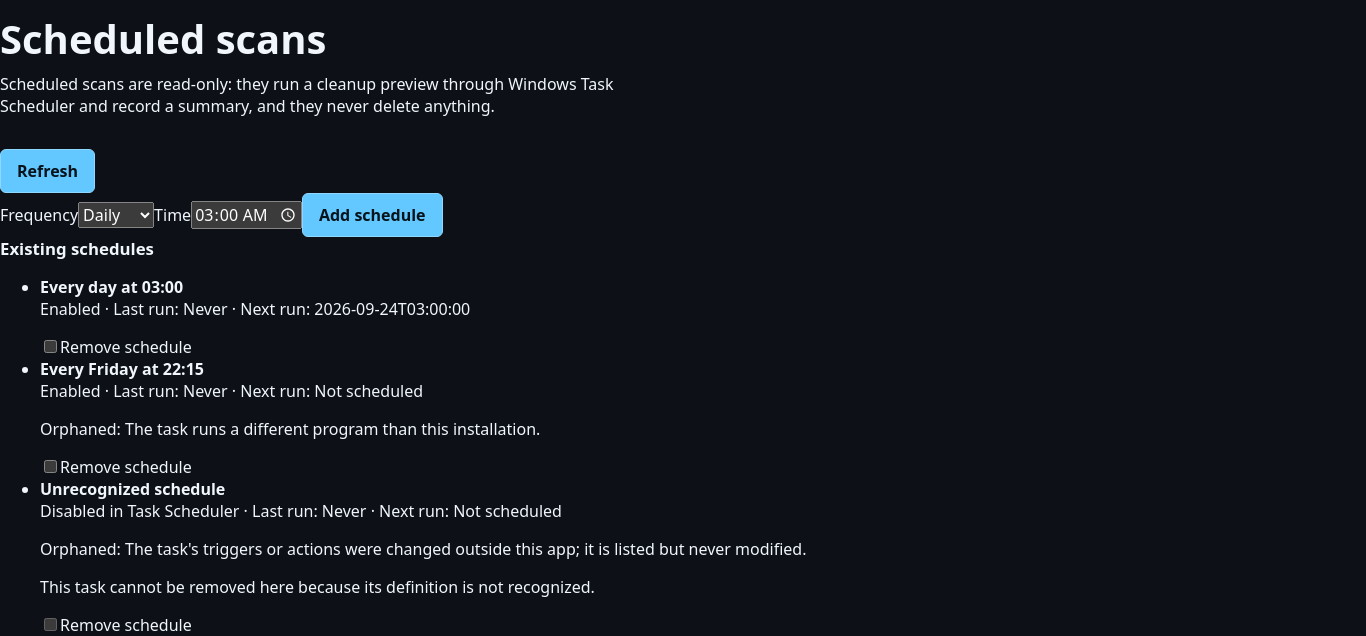
adds a weekly schedule with the exact cadence and a lowercase id
Expected: the text "Every day at 03:00" is shown, [40,276,183,298]
Select "Weekly" in the dropdown labelled "Frequency": [116, 215] box [78,202,154,228]
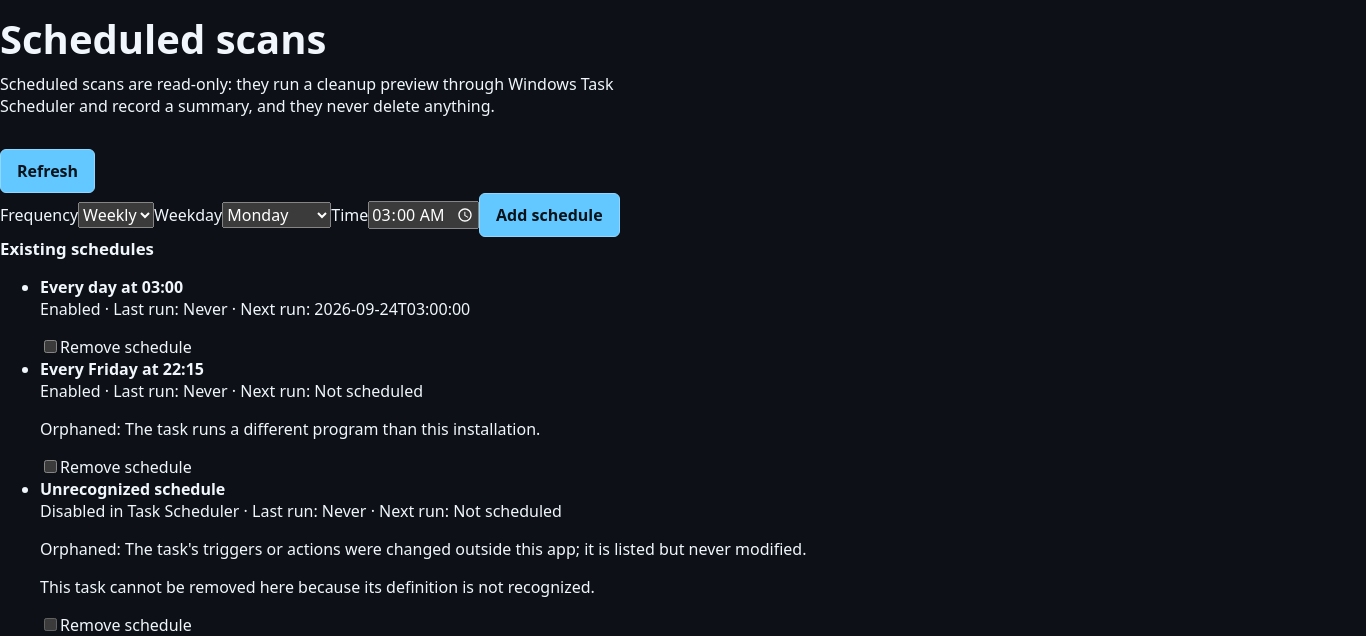
Select "Sunday" in the dropdown labelled "Weekday": [277, 215] box [222,202,331,228]
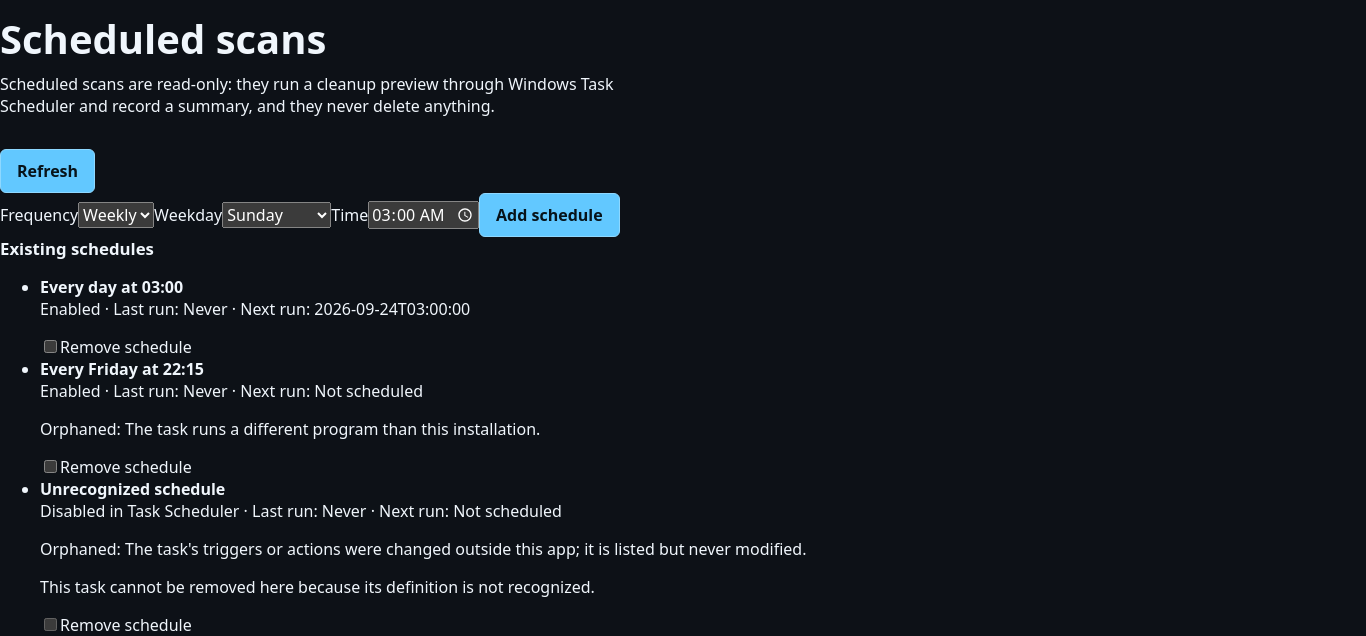
Replace the text in the time field labelled "Time" with "07:30": [424, 215] box [368,201,479,229]
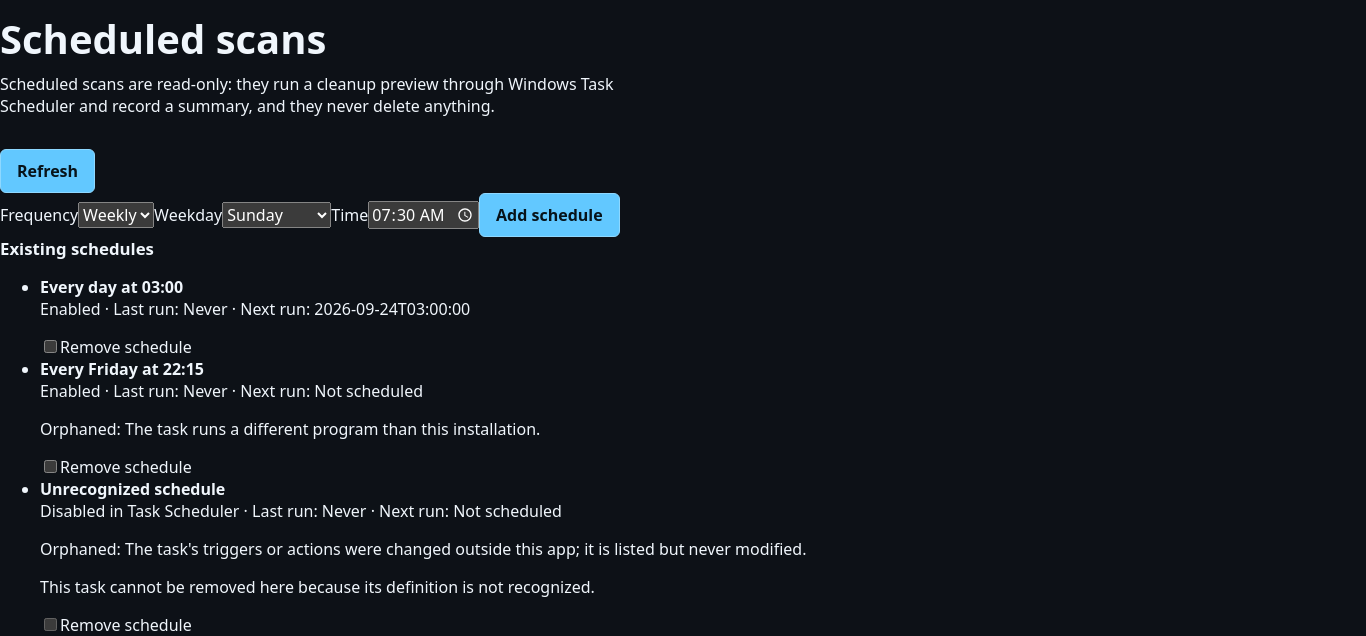
Click the button "Add schedule": [549, 215] box [479,193,620,237]
(page scrolled)
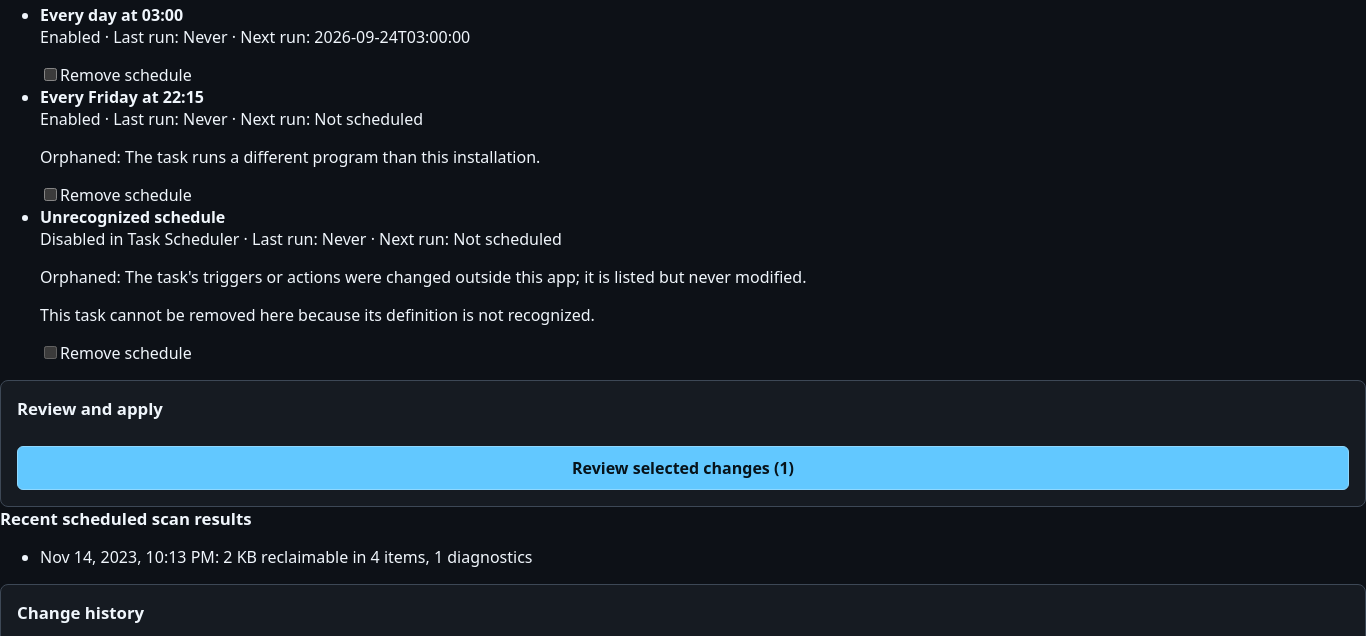
Click the button "Review selected changes (1)": [683, 468] box [17,446,1349,490]
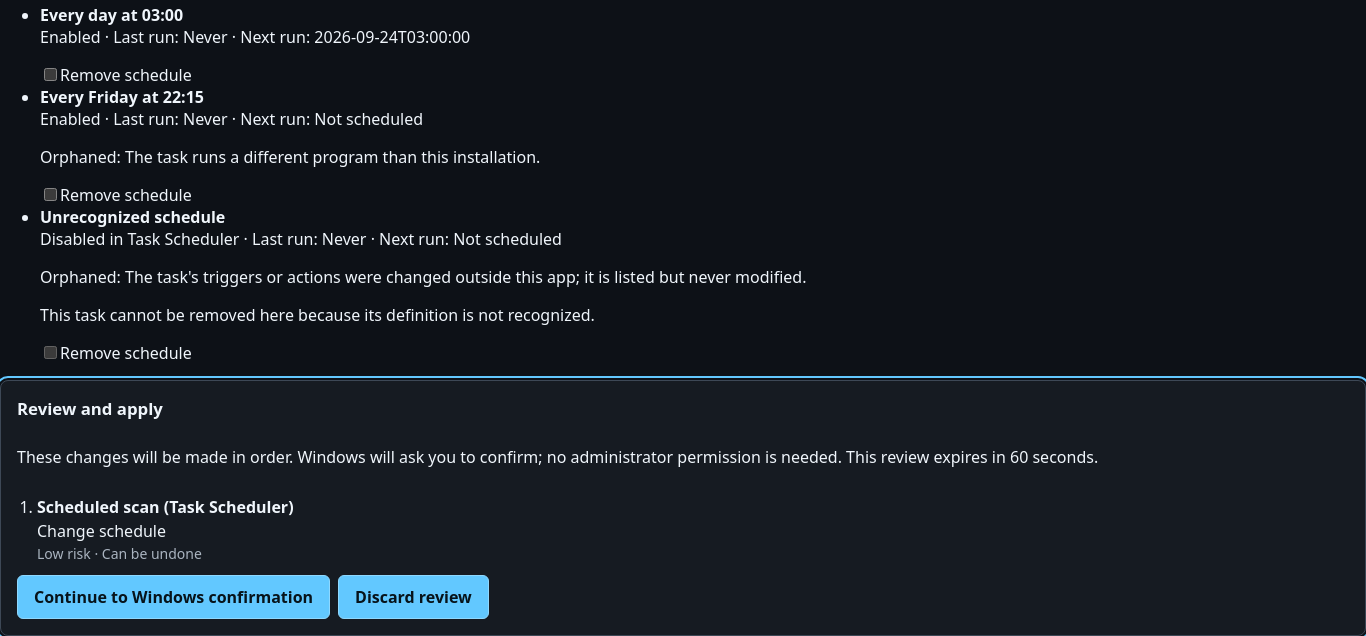
Expected: the button "Continue to Windows confirmation" is shown, [17,575,330,619]
